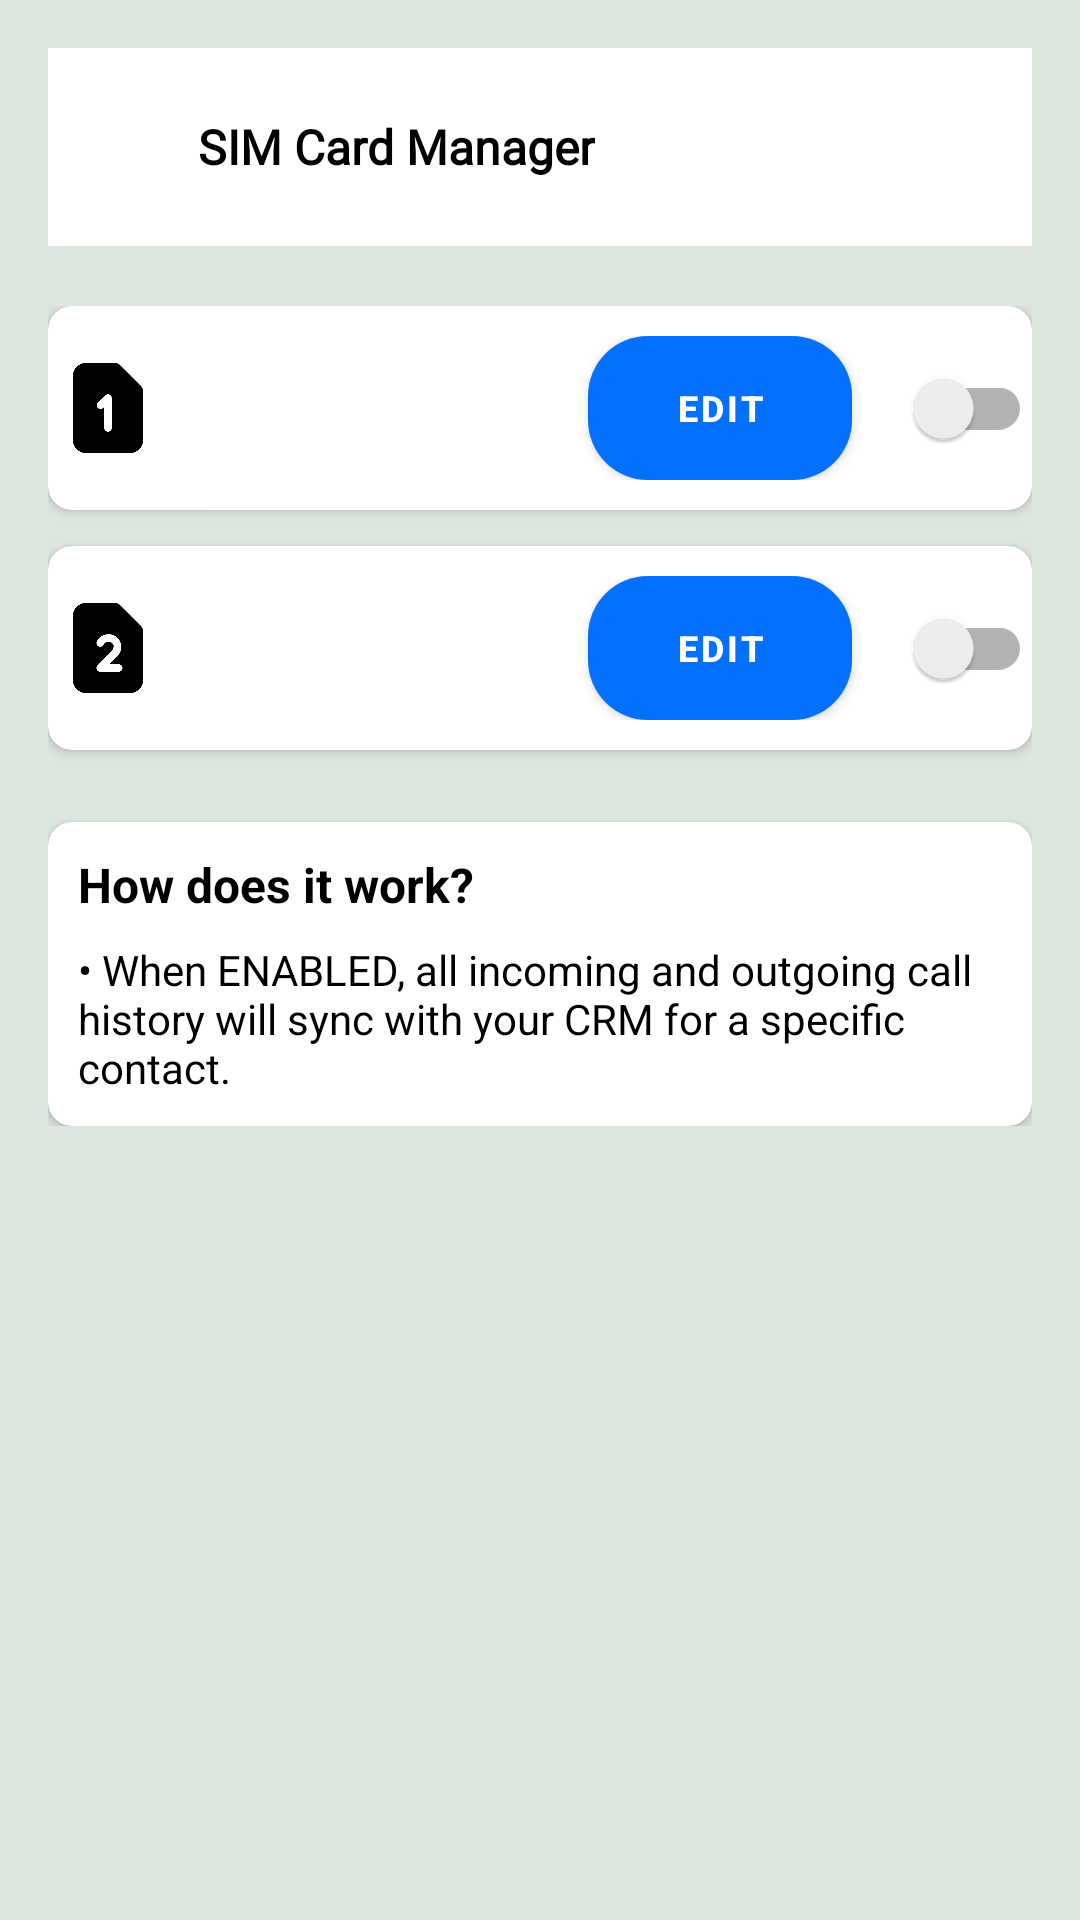

Icons on this 1080x1920 Android screen, each with its box as box=[x1, y1, x2, y2]:
sim: box=[73, 363, 143, 453], box=[73, 603, 143, 693]
